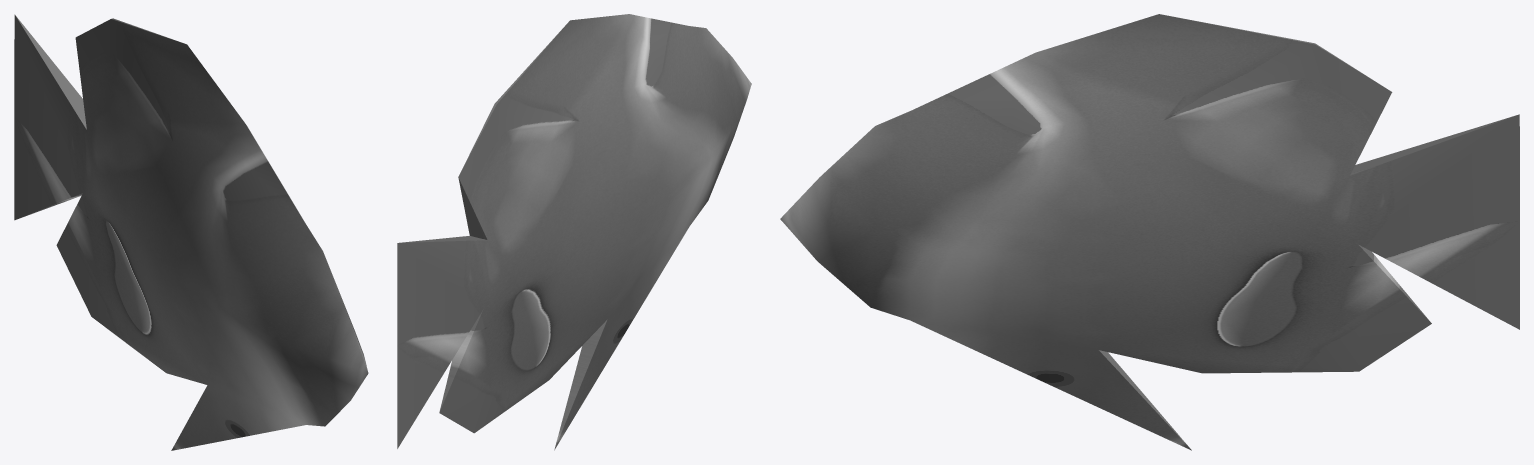
The model's file is Fish vertex 5.fbx.
3 renders of one model, left to right at view 1: azimuth 30°, elevation 25°; view 2: azimuth 150°, elevation 25°; view 3: azimuth 270°, elevation 25°, orthographic. The views are drawn at different scales.
Visible parts, largest first — view 1: Fish 003; view 2: Fish 003; view 3: Fish 003.
Part boxes in pixels (x1,y1,x2,y2): Fish 003: [14, 14, 368, 450]; Fish 003: [397, 14, 751, 450]; Fish 003: [780, 14, 1519, 450].
Size of the model in its own units: 2.5 by 9.38 by 14.39.
